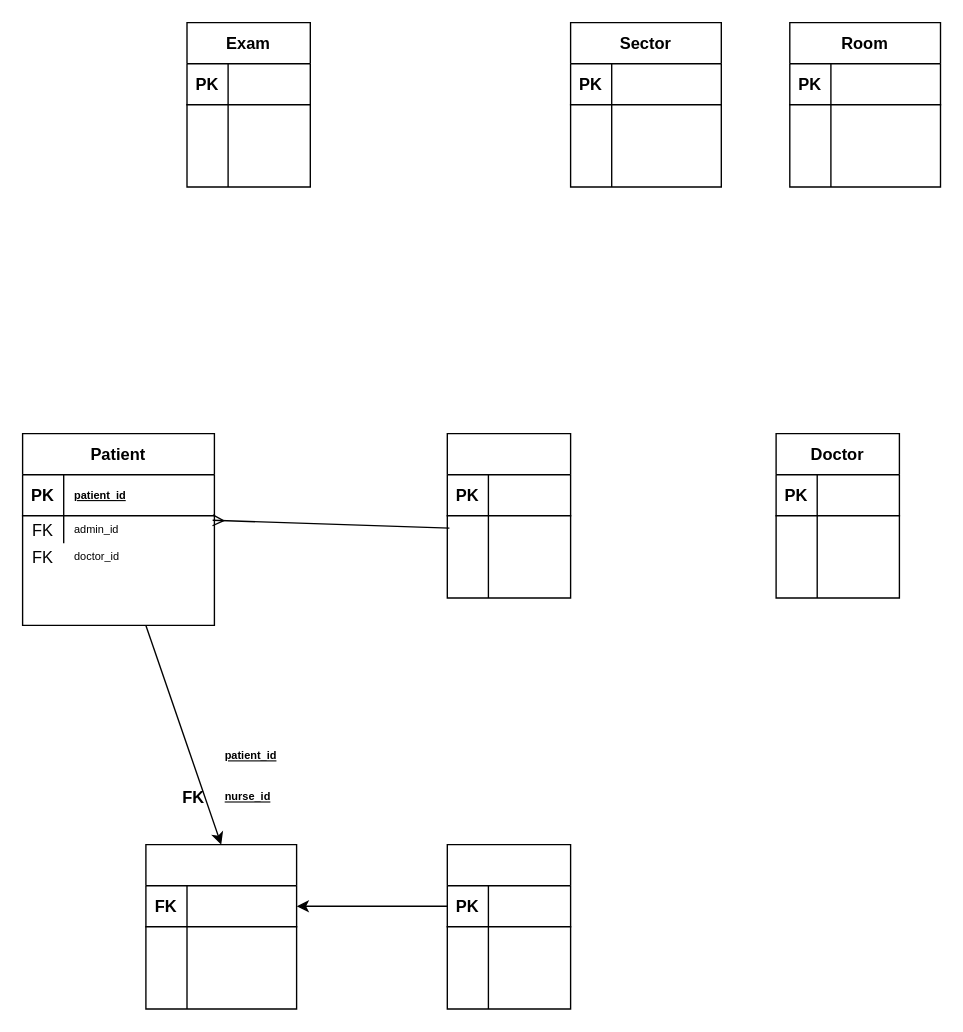
The diagram is 963 pixels wide and 1032 high, and some of its shapes have lost their labels. The shapes that lost their labels are listed below. From the top down, each one's box as (x1, y1, x2, y2) in pixels, then its label:
(446, 432, 571, 598): Admin
(145, 843, 297, 1009): Treatment
(446, 843, 571, 1009): Nurse
